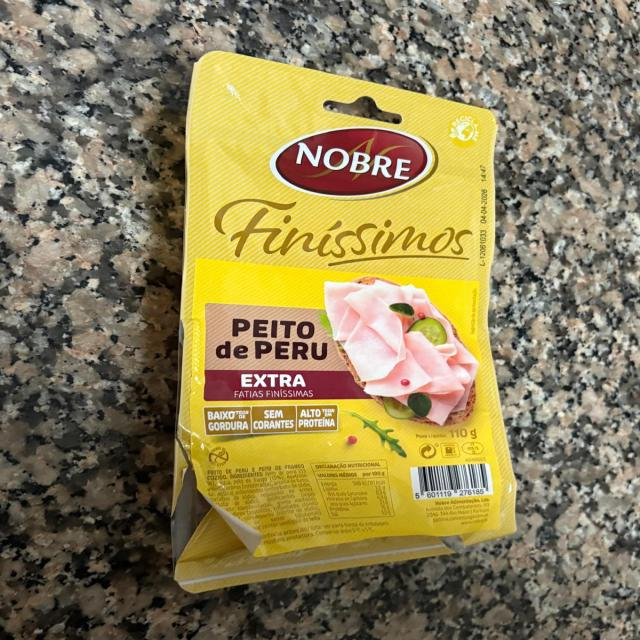damaged_package: (161, 50, 520, 597)
